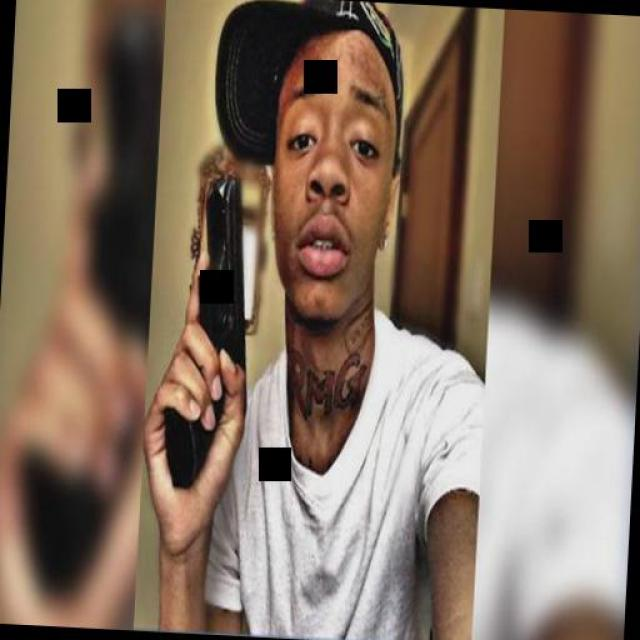gun: (161, 173, 260, 482)
